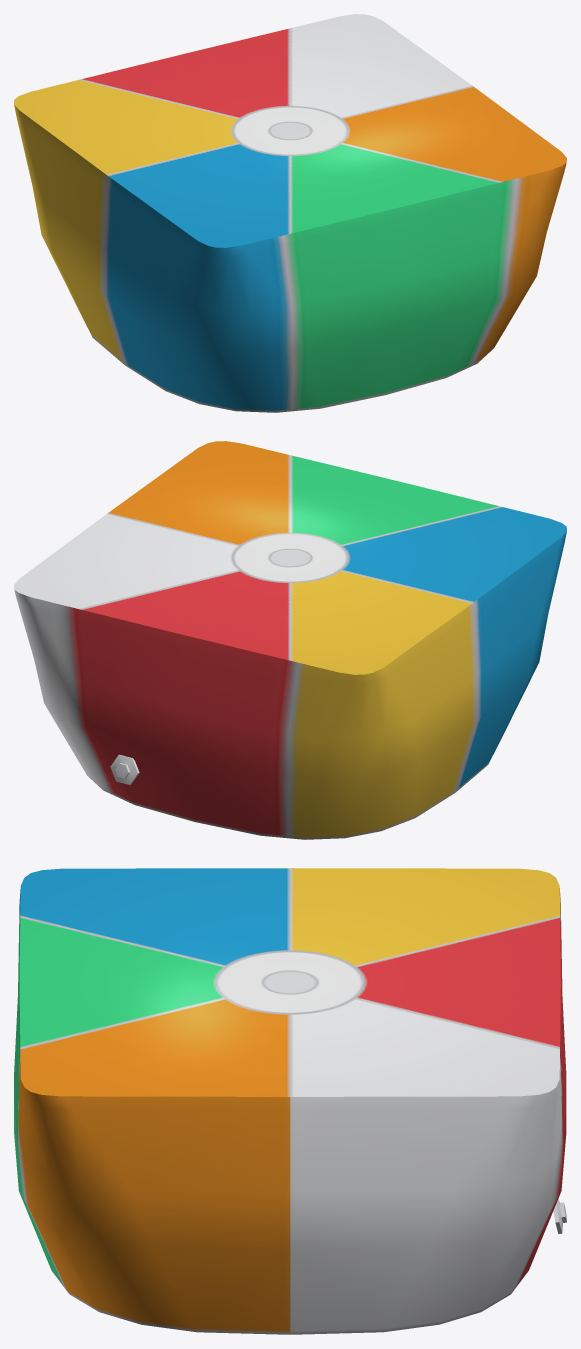
File: pool_beach_ball_lod1.glb
3 renders of one model, top to bottom at view 1: azimuth 30°, elevation 25°; view 2: azimuth 150°, elevation 25°; view 3: azimuth 270°, elevation 25°, orthographic. The views are drawn at different scales.
Parts seen in each view (by area): view 1: pool_beach_ball_LOD1; view 2: pool_beach_ball_LOD1; view 3: pool_beach_ball_LOD1.
Boxes of the visible parts, x1,y1,x2,y2 form: pool_beach_ball_LOD1: (14,14,566,412); pool_beach_ball_LOD1: (14,441,566,839); pool_beach_ball_LOD1: (14,868,566,1334).
Bounding box in the file's own units: 7 × 4 × 7.01.
1 material, 1 textured.
